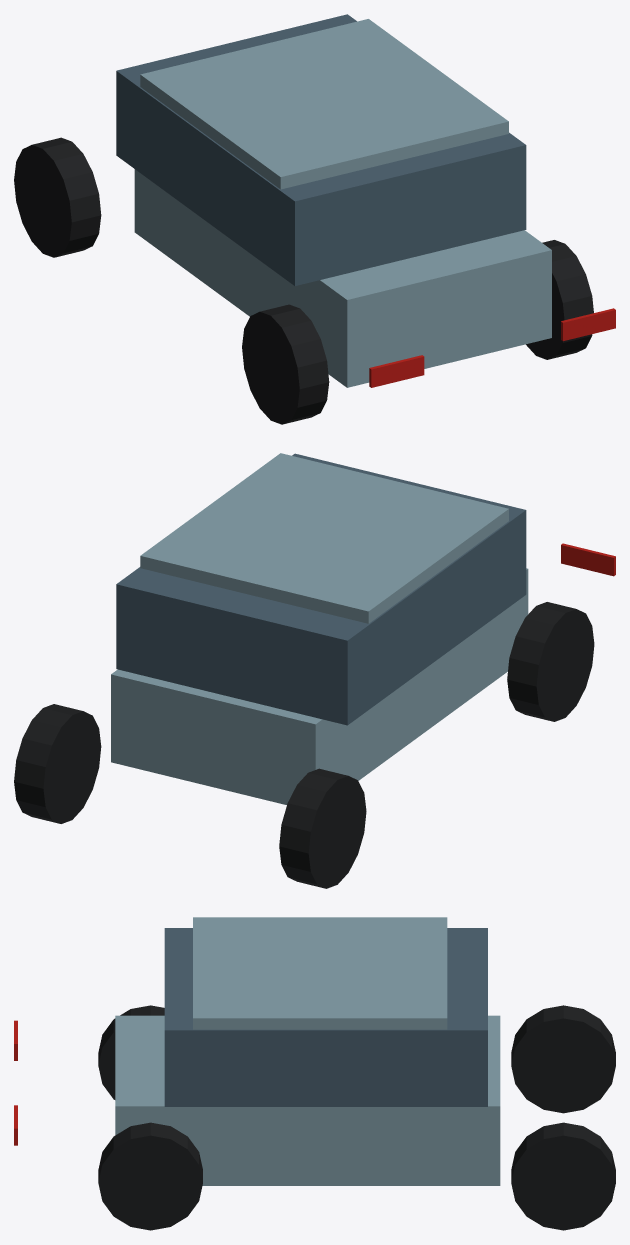
Rendered from traffic_lod0.glb.
3 views of the same model, one above another, from view 1: azimuth 30°, elevation 25°; view 2: azimuth 150°, elevation 25°; view 3: azimuth 270°, elevation 25° (orthographic). The views are drawn at different scales.
Visible parts, largest first — view 1: TrafficCabin, TrafficRoof, TrafficBody, Tire_LR, Tire_LF, Tire_RR, TailLamp_-0.65, TailLamp_0.65; view 2: TrafficCabin, TrafficRoof, TrafficBody, Tire_LF, Tire_LR, Tire_RF, TailLamp_-0.65; view 3: TrafficCabin, TrafficBody, TrafficRoof, Tire_LF, Tire_RR, Tire_RF, Tire_LR.
Boxes of the visible parts, x1,y1,x2,y2 form: TrafficCabin: (116,14,526,285); TrafficRoof: (140,19,508,189); TrafficBody: (134,169,551,387); Tire_LR: (242,304,329,424); Tire_LF: (14,137,101,257); Tire_RR: (526,240,593,359); TailLamp_-0.65: (369,355,424,387); TailLamp_0.65: (561,308,615,341); TrafficCabin: (116,453,526,725); TrafficRoof: (140,453,508,623); TrafficBody: (111,568,528,804); Tire_LF: (279,768,366,888); Tire_LR: (507,602,594,721); Tire_RF: (14,704,101,823); TailLamp_-0.65: (561,543,615,576); TrafficCabin: (164,928,487,1106); TrafficBody: (115,1015,500,1185); TrafficRoof: (193,917,447,1029); Tire_LF: (511,1005,615,1113); Tire_RR: (98,1122,202,1230); Tire_RF: (511,1122,615,1230); Tire_LR: (98,1005,164,1099).
Bounding box in the file's own units: 2 × 1.42 × 3.91.
